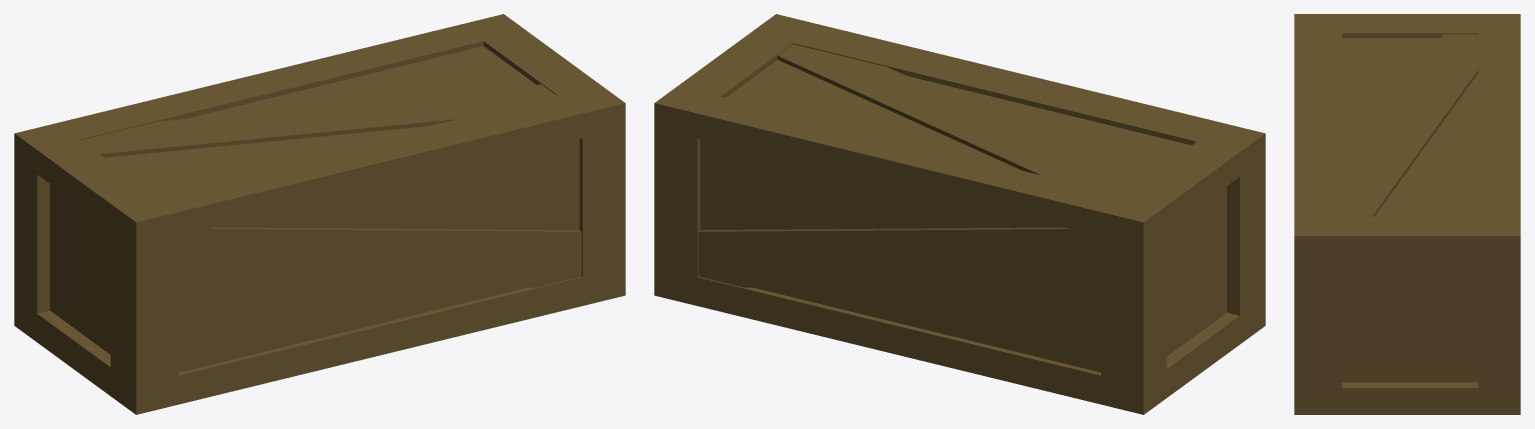
The model's file is WoodenCrate_02.fbx.
3 views of the same model, side by side, from view 1: azimuth 30°, elevation 25°; view 2: azimuth 150°, elevation 25°; view 3: azimuth 270°, elevation 25° (orthographic). The views are drawn at different scales.
Visible parts, largest first — view 1: WoodenCrate_02; view 2: WoodenCrate_02; view 3: WoodenCrate_02.
Boxes of the visible parts, <box> form: WoodenCrate_02: <box>14,14,625,414</box>; WoodenCrate_02: <box>654,14,1265,414</box>; WoodenCrate_02: <box>1294,14,1520,414</box>.
Size of the model in its own units: 317 by 119 by 137.
